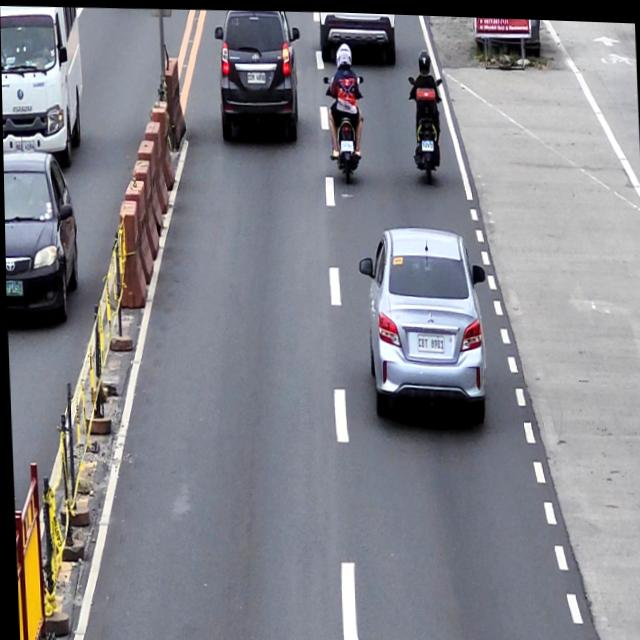Car: (362, 224, 485, 420), (217, 7, 299, 139)
License-Plate: (415, 331, 443, 351), (245, 68, 266, 83)
Motorcycle: (327, 42, 362, 177), (410, 44, 441, 181)
